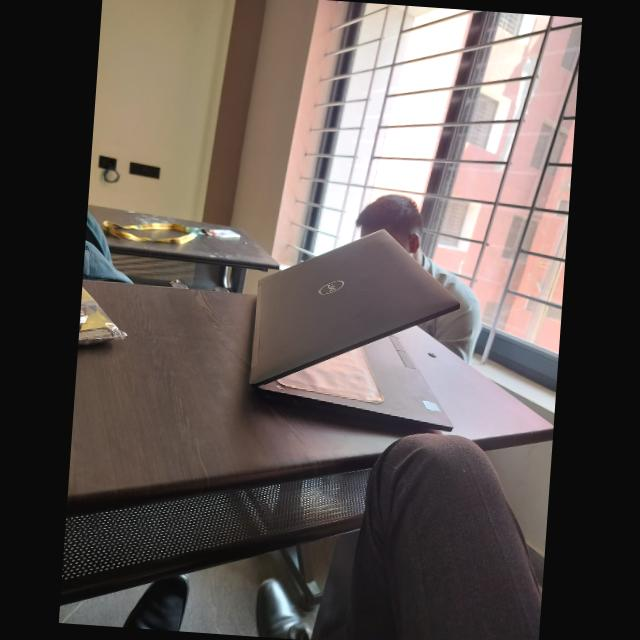laptop: (209, 229, 508, 432)
